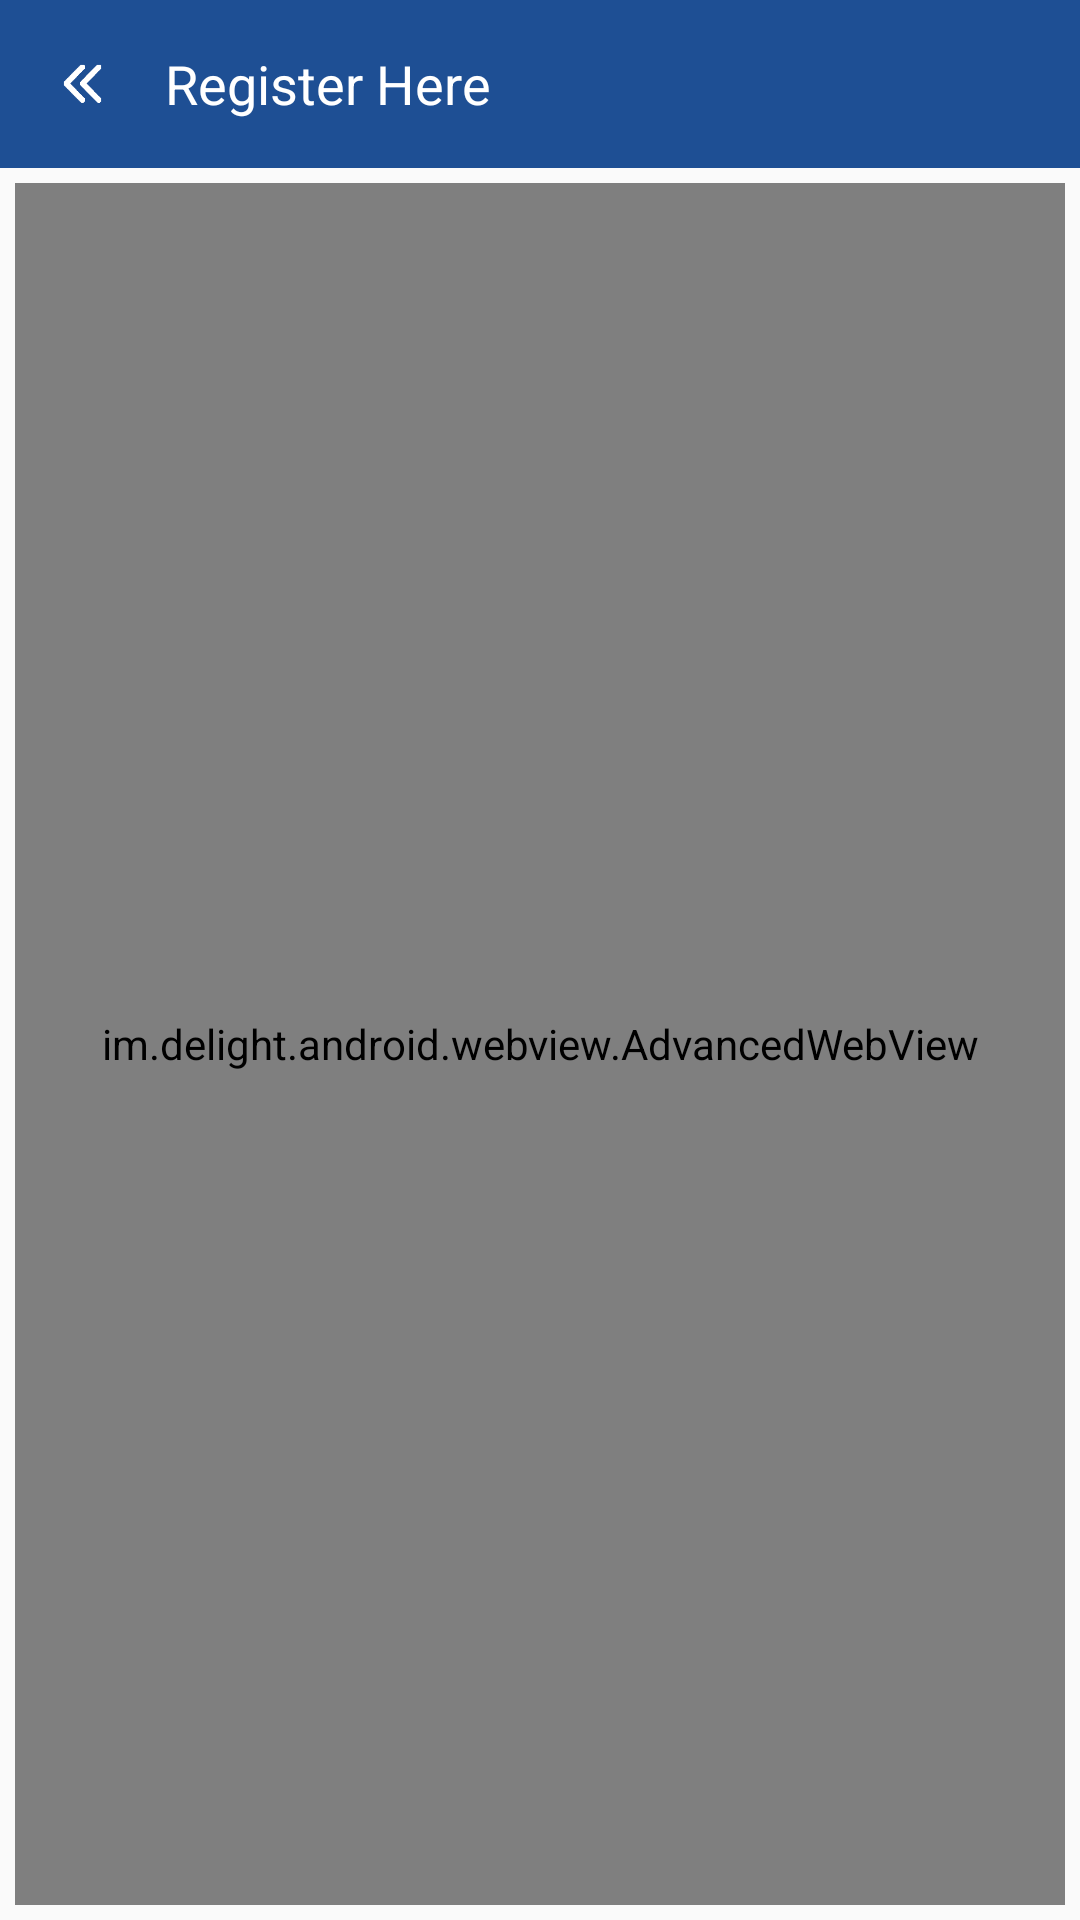

Icons on this 1080*1920 Android screen, each with its box as BBox(x1, y1, x2, y2):
arrow: BBox(64, 65, 101, 103)
